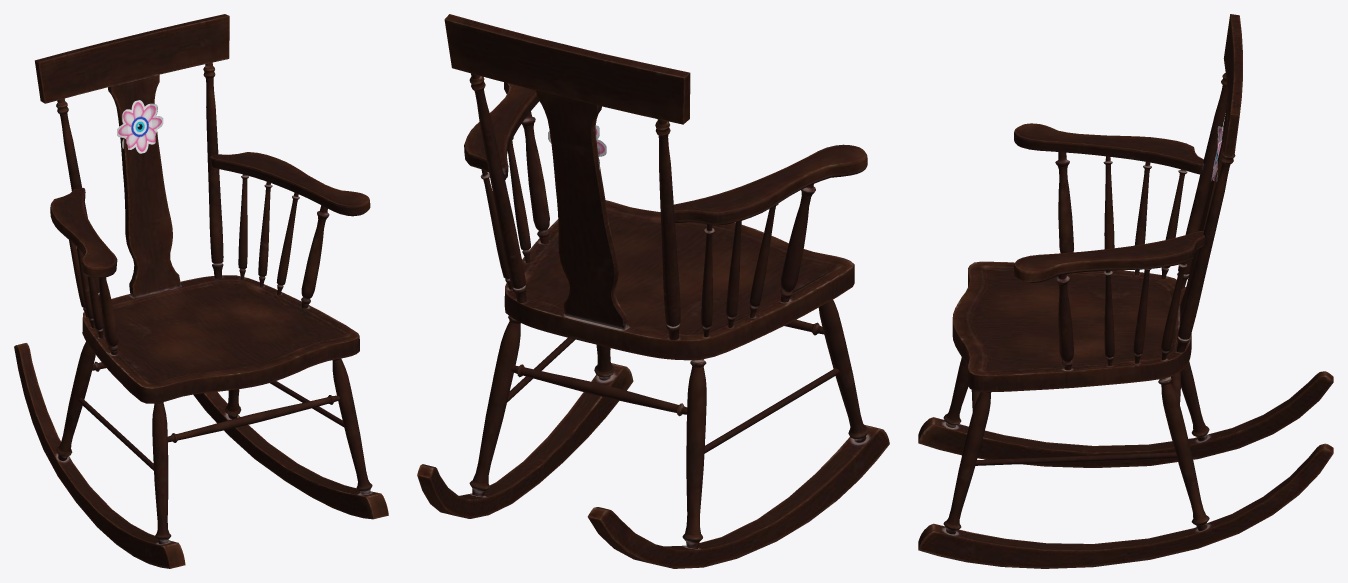
File: nyb_loft_rocker.glb
3 renders of one model, left to right at view 1: azimuth 30°, elevation 25°; view 2: azimuth 150°, elevation 25°; view 3: azimuth 270°, elevation 25°, orthographic. The views are drawn at different scales.
Visible parts, largest first — view 1: Rockingchair_01, stk_eyeflower_die.png; view 2: Rockingchair_01; view 3: Rockingchair_01.
Part boxes in pixels (<box>): Rockingchair_01: <box>14,14,388,568</box>; stk_eyeflower_die.png: <box>117,100,163,153</box>; Rockingchair_01: <box>417,14,889,568</box>; Rockingchair_01: <box>918,14,1333,568</box>.
Size of the model in its own units: 0.7081 by 0.9949 by 0.8335.
Materials: 2 (2 with a texture image).
